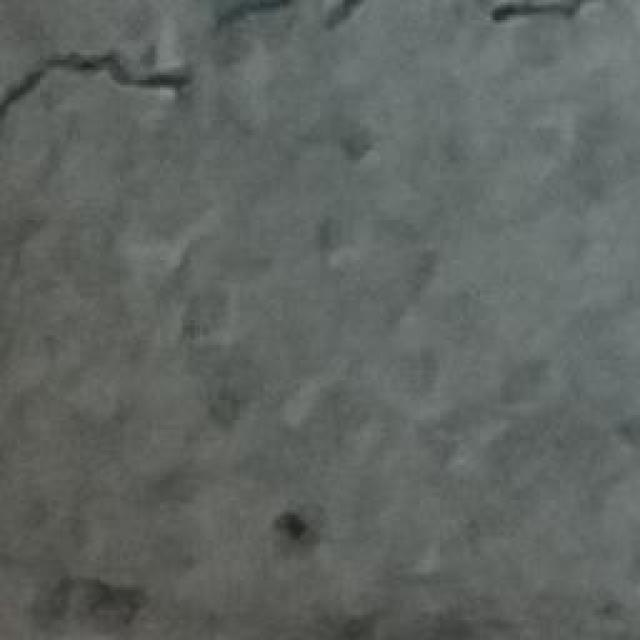Diagonal: (0, 0, 365, 110)
Rippled: (3, 136, 640, 640)
